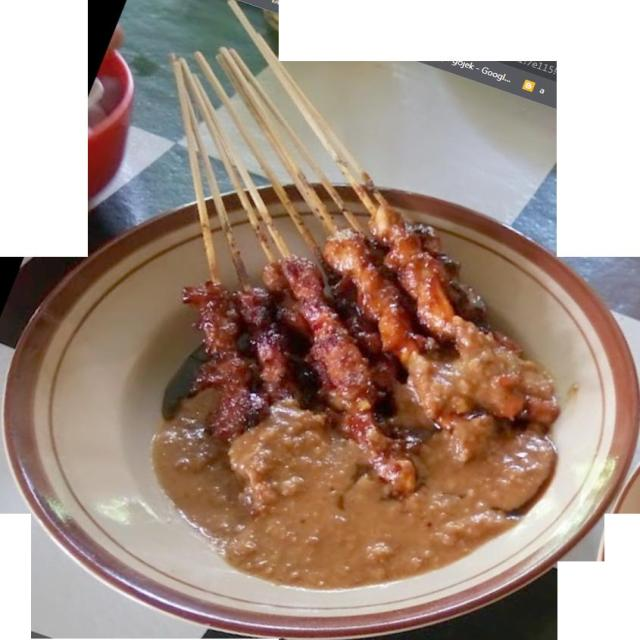Sate: (151, 24, 544, 520)
